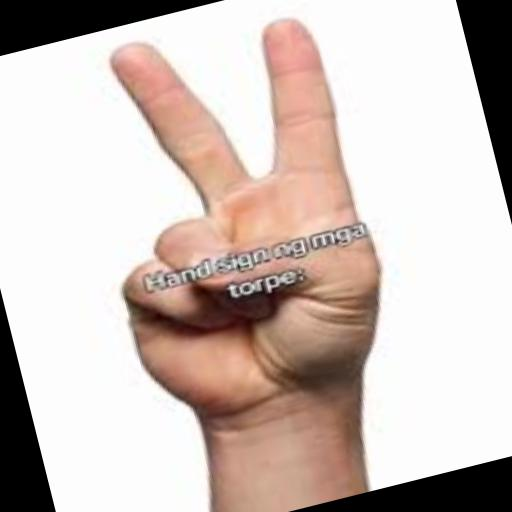Peace: (49, 0, 490, 512)
